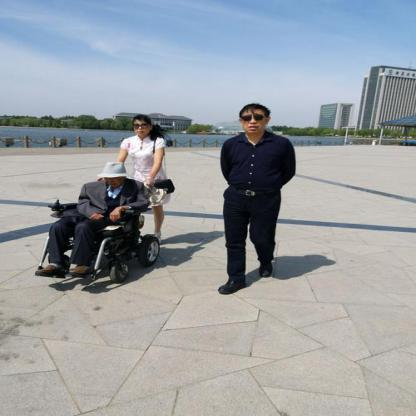wheelchair: (37, 162, 166, 288)
